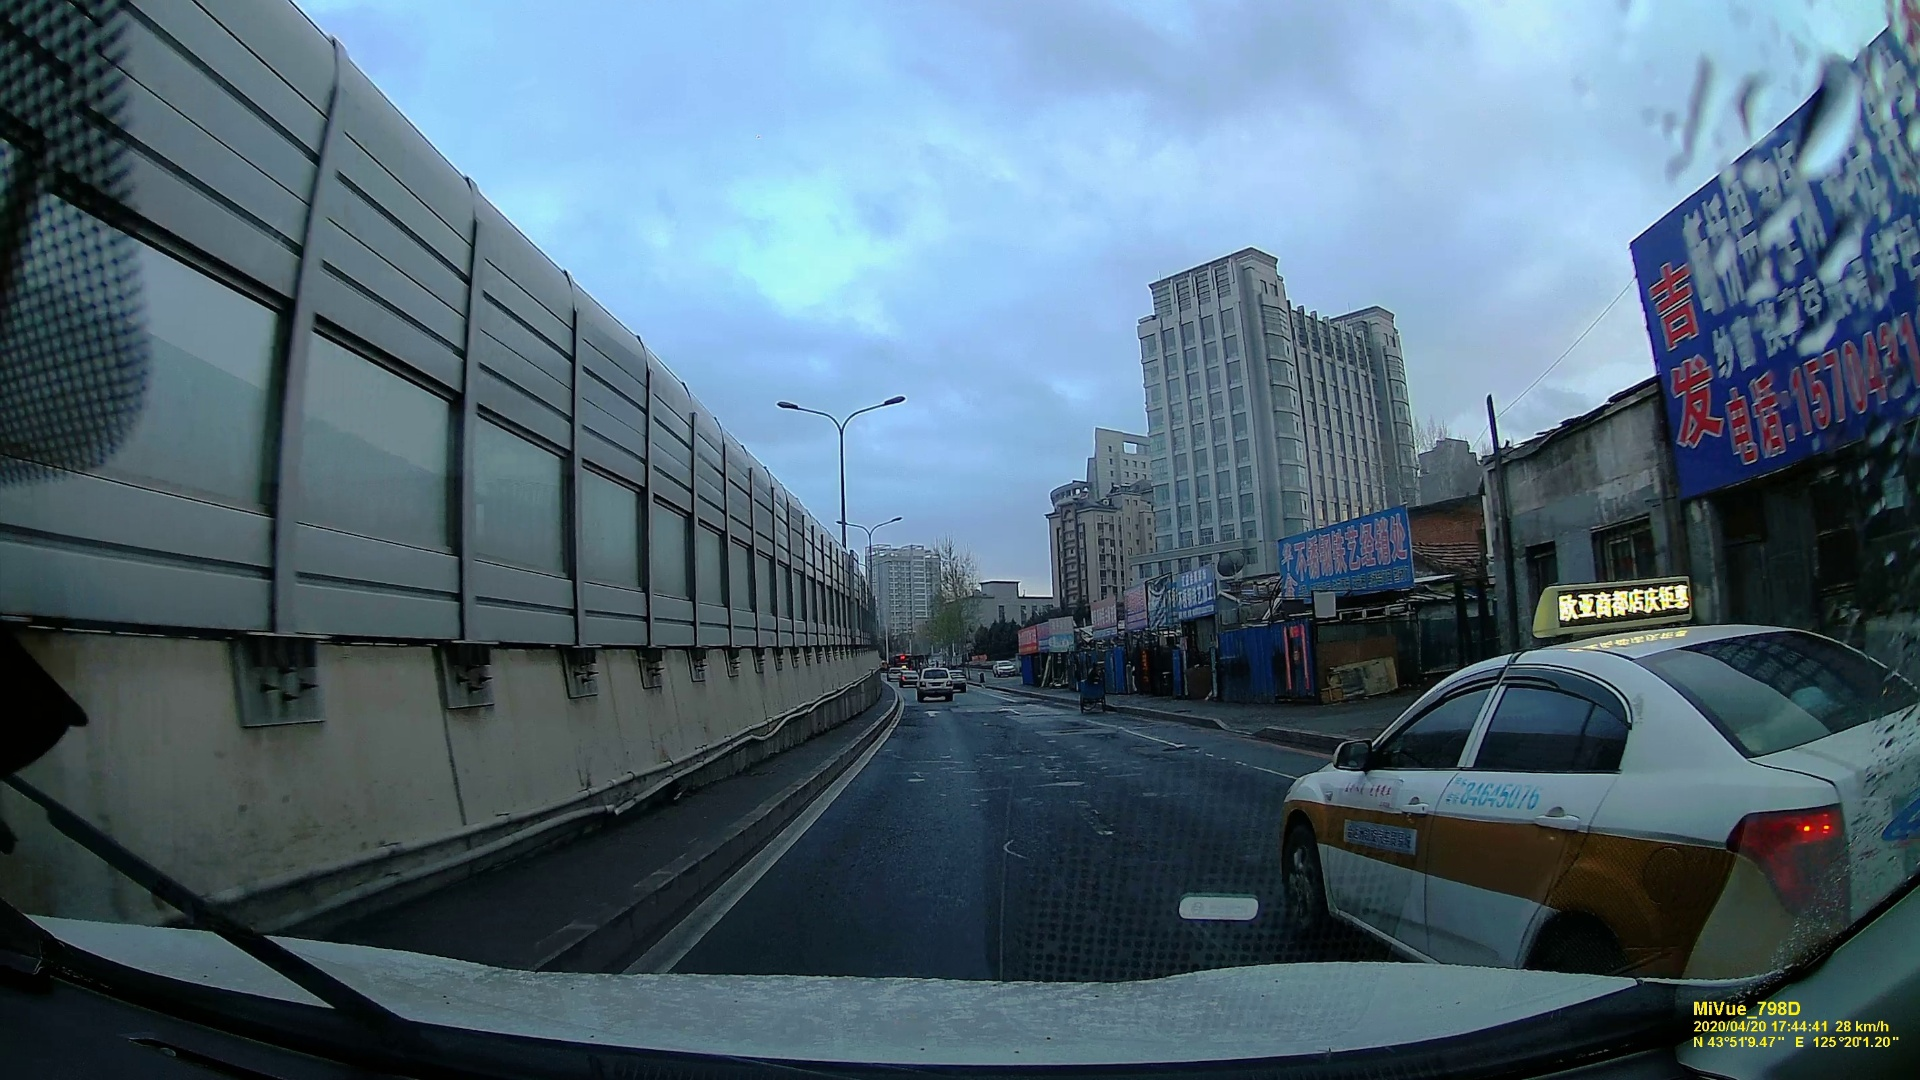vehicle: (1284, 620, 1907, 994), (915, 667, 953, 702)
